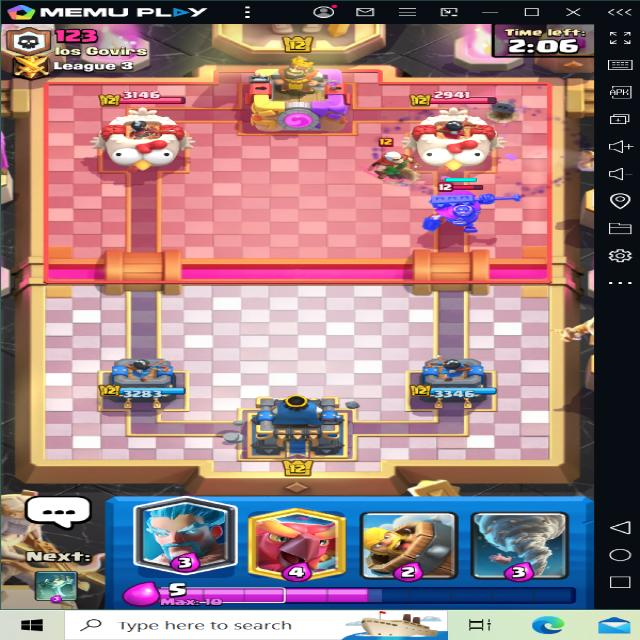magic-archer: (360, 133, 418, 185)
skeleton-king: (422, 178, 505, 244)
